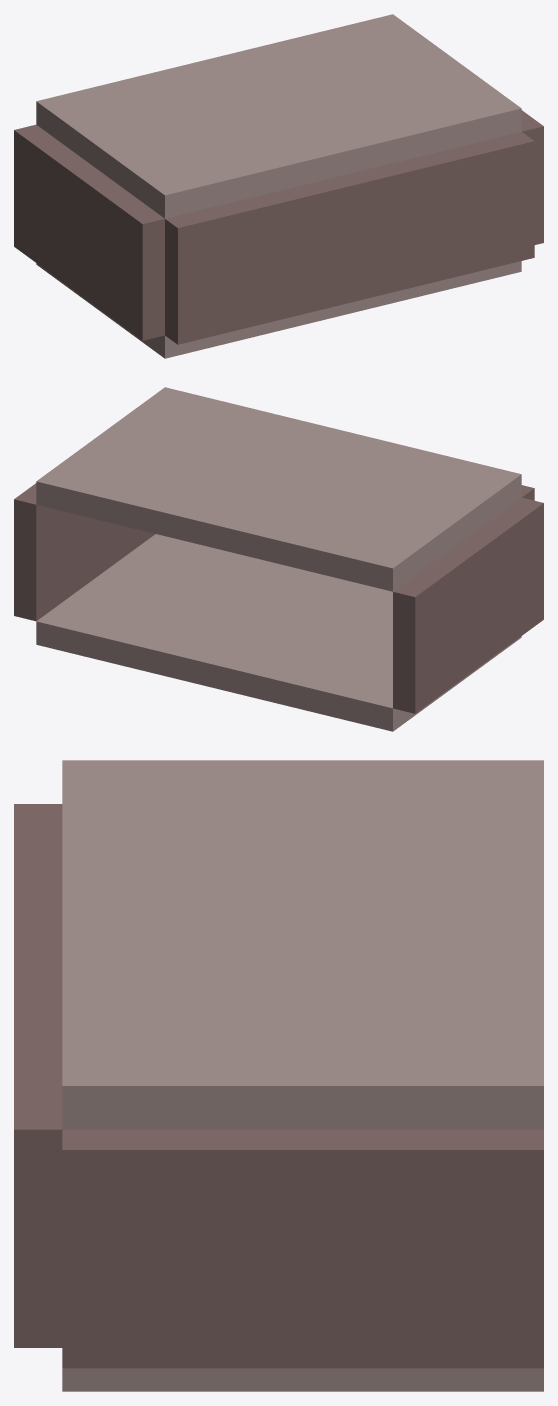
File: room_fbx.fbx
The picture shows the model from 3 angles, top to bottom: view 1: azimuth 30°, elevation 25°; view 2: azimuth 150°, elevation 25°; view 3: azimuth 270°, elevation 25°; orthographic projection. The views are drawn at different scales.
Parts seen in each view (by area): view 1: Roof, BackWall, RightWall, Floor, LeftWall; view 2: Roof, Floor, RightWall, LeftWall; view 3: Roof, LeftWall, BackWall, Floor.
Part boxes in pixels (x1,y1,x2,y2): Roof: (36, 14, 521, 218); BackWall: (165, 132, 534, 344); RightWall: (14, 124, 164, 340); Floor: (36, 261, 521, 358); LeftWall: (521, 110, 543, 244); Roof: (36, 387, 521, 591); Floor: (36, 534, 521, 731); RightWall: (393, 497, 543, 713); LeftWall: (14, 483, 154, 621); Roof: (62, 760, 543, 1129); LeftWall: (62, 1129, 543, 1368); BackWall: (14, 804, 62, 1347); Floor: (62, 1368, 543, 1391).
Bounding box in the file's own units: 9 × 3.5 × 5.5.
